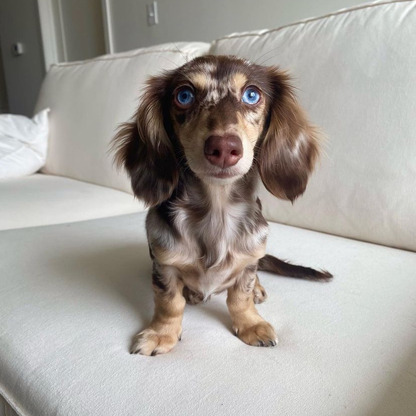dachshund: (108, 41, 353, 368)
